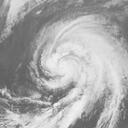cyclone: (27, 14, 125, 94)
